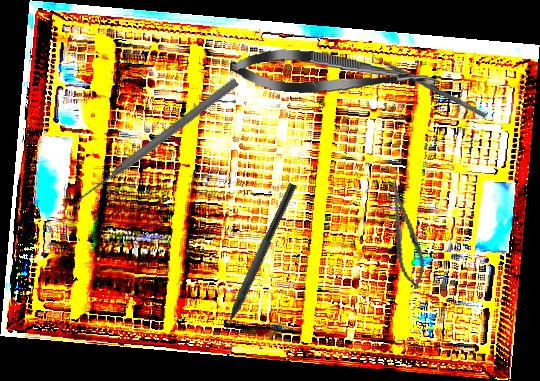Chopper: (208, 177, 297, 345)
Micro Scissor: (228, 45, 442, 103)
Needle Holder: (382, 180, 430, 292)
Pusher: (74, 76, 241, 205)
Spatula Surgical: (367, 48, 490, 119)
